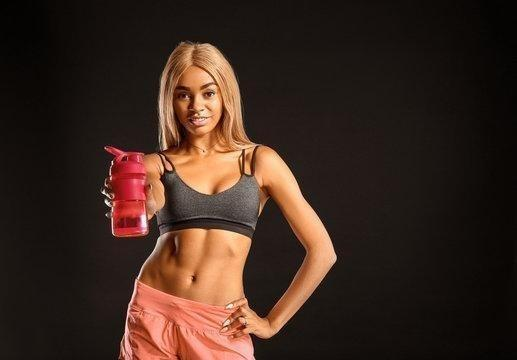gym bottle: (105, 144, 150, 237)
